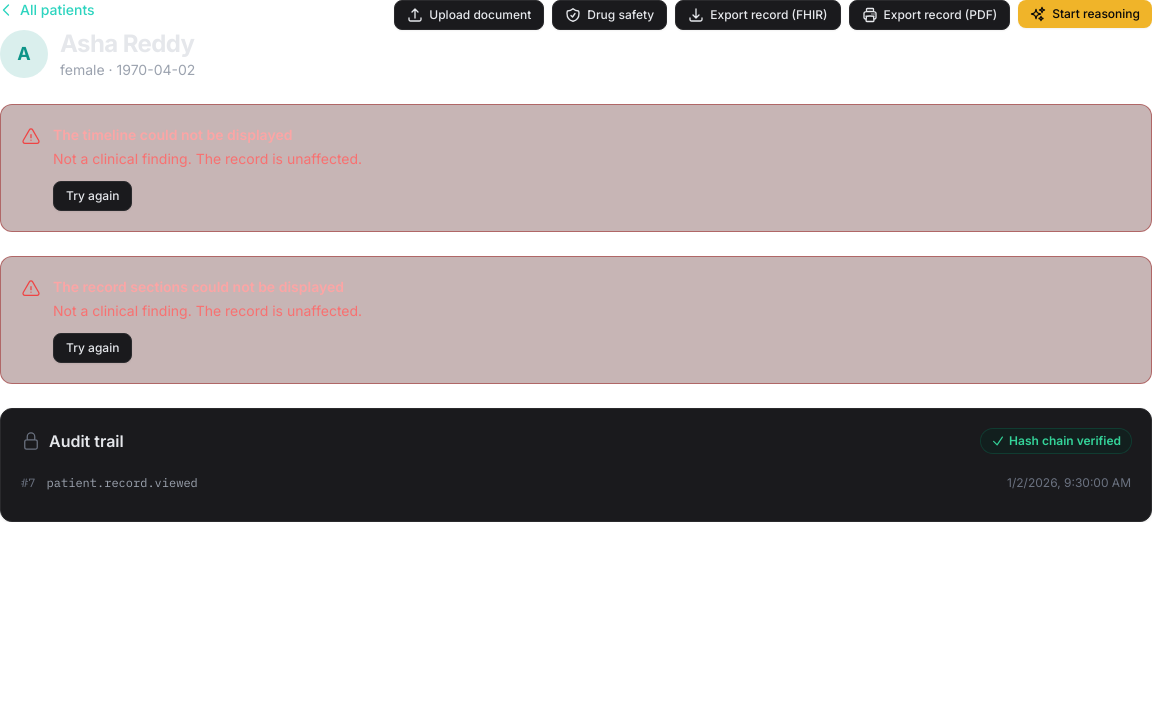
Test: PatientDetailPage section error boundaries › re-fetches the chart when a crashed section is retried
Click the button "Try again" below "The timeline": (93, 196) 53,181 -> 132,211
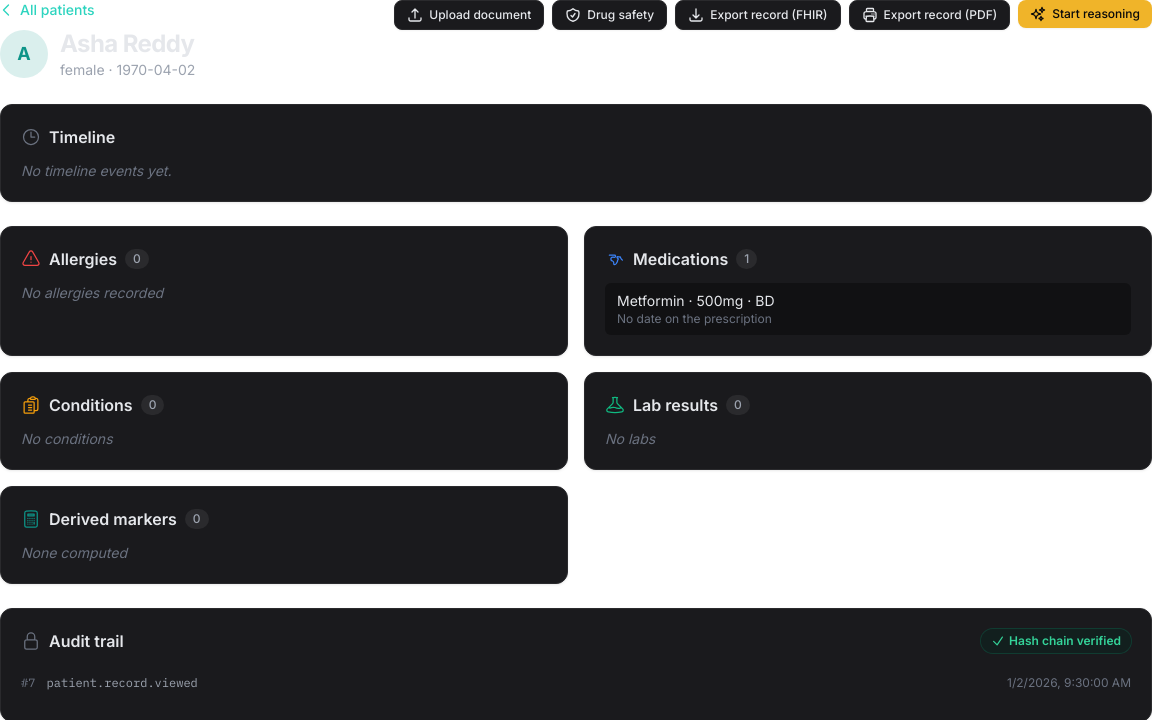
Check: the text "Metformin · 500mg · BD" is shown, box 617,291 -> 774,311
Check: the heading "could not be displayed" is gone
